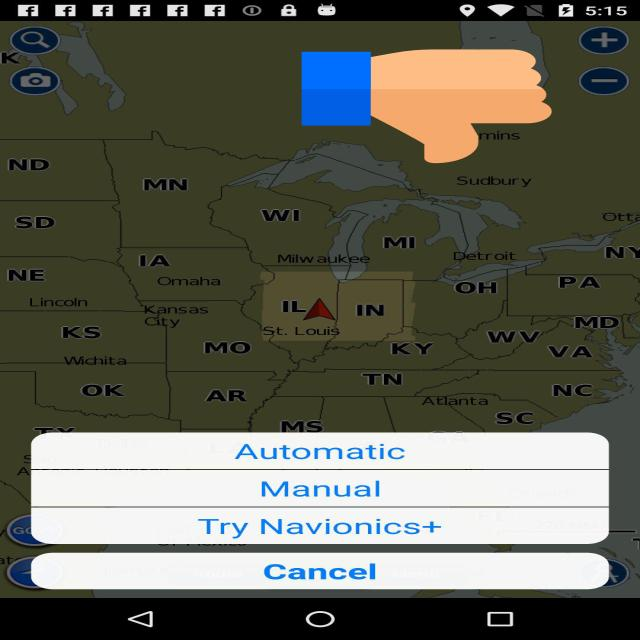obstruction: (302, 47, 552, 166)
